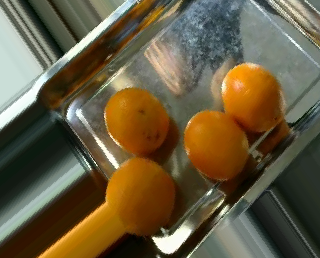Orange: (105, 156, 176, 236), (221, 61, 287, 132), (183, 109, 248, 180), (104, 86, 169, 154)
